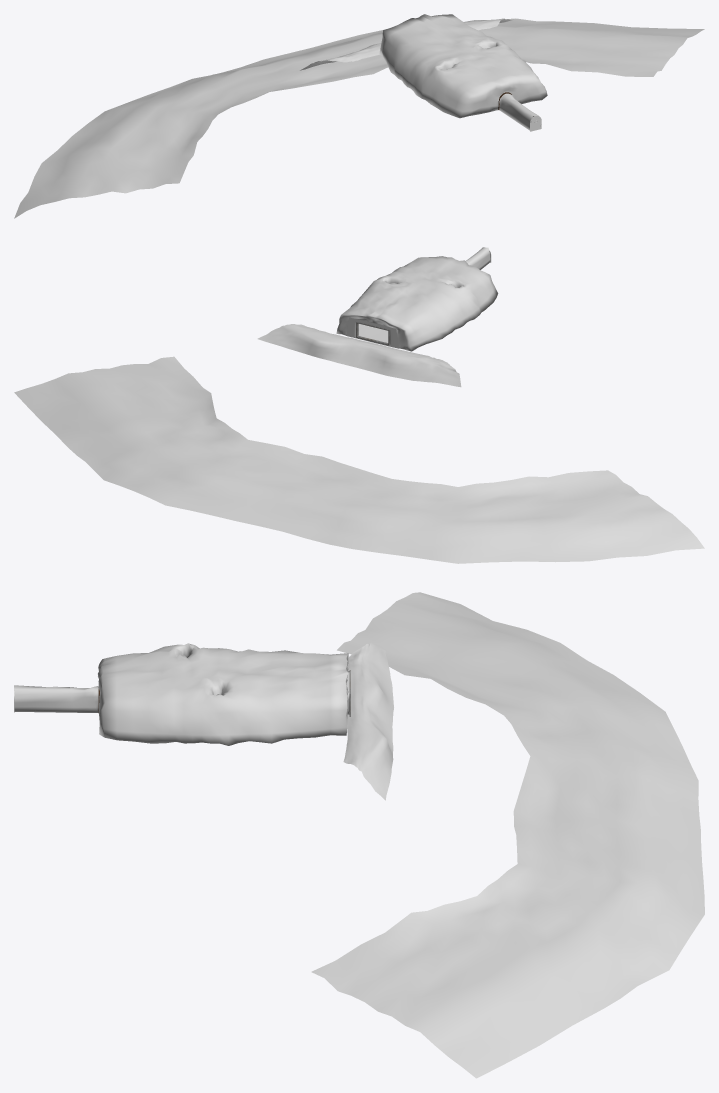
Rendered from EntornoFinal.fbx.
3 renders of one model, top to bottom at view 1: azimuth 30°, elevation 25°; view 2: azimuth 150°, elevation 25°; view 3: azimuth 270°, elevation 25°, orthographic. The views are drawn at different scales.
Parts seen in each view (by area): view 1: Rompeolas, Cueva; view 2: Rompeolas, Cueva; view 3: Rompeolas, Cueva.
Boxes of the visible parts, x1,y1,x2,y2 form: Rompeolas: (14,18,704,218); Cueva: (379,14,547,131); Rompeolas: (14,324,704,563); Cueva: (336,247,498,351); Rompeolas: (311,592,704,1078); Cueva: (14,643,349,745).
Size of the model in its own units: 11941 by 2139 by 7126.
